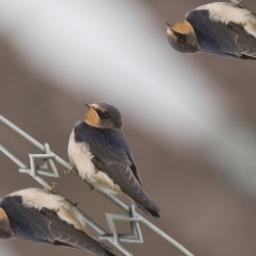Swallow: (36, 90, 205, 235)
